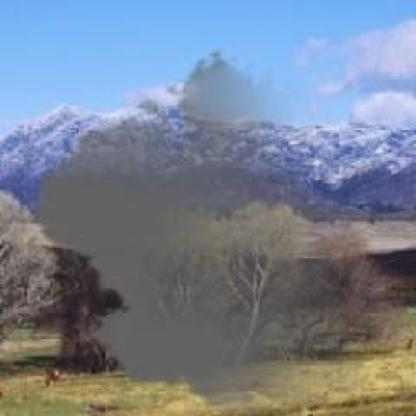Smoke: (23, 49, 392, 414)
